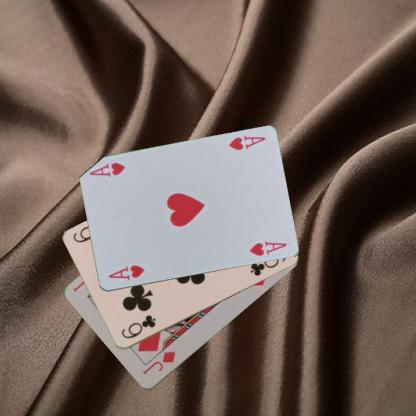6c: (119, 313, 157, 340)
Ah: (106, 262, 146, 282), (226, 133, 267, 152)
Jd: (139, 349, 177, 377)
